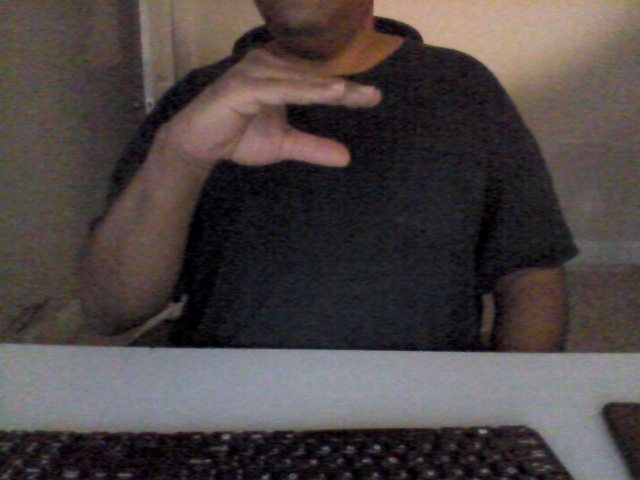no: (169, 47, 385, 178)
